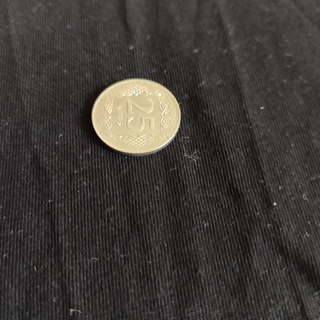25KURUS: (90, 76, 181, 155)
